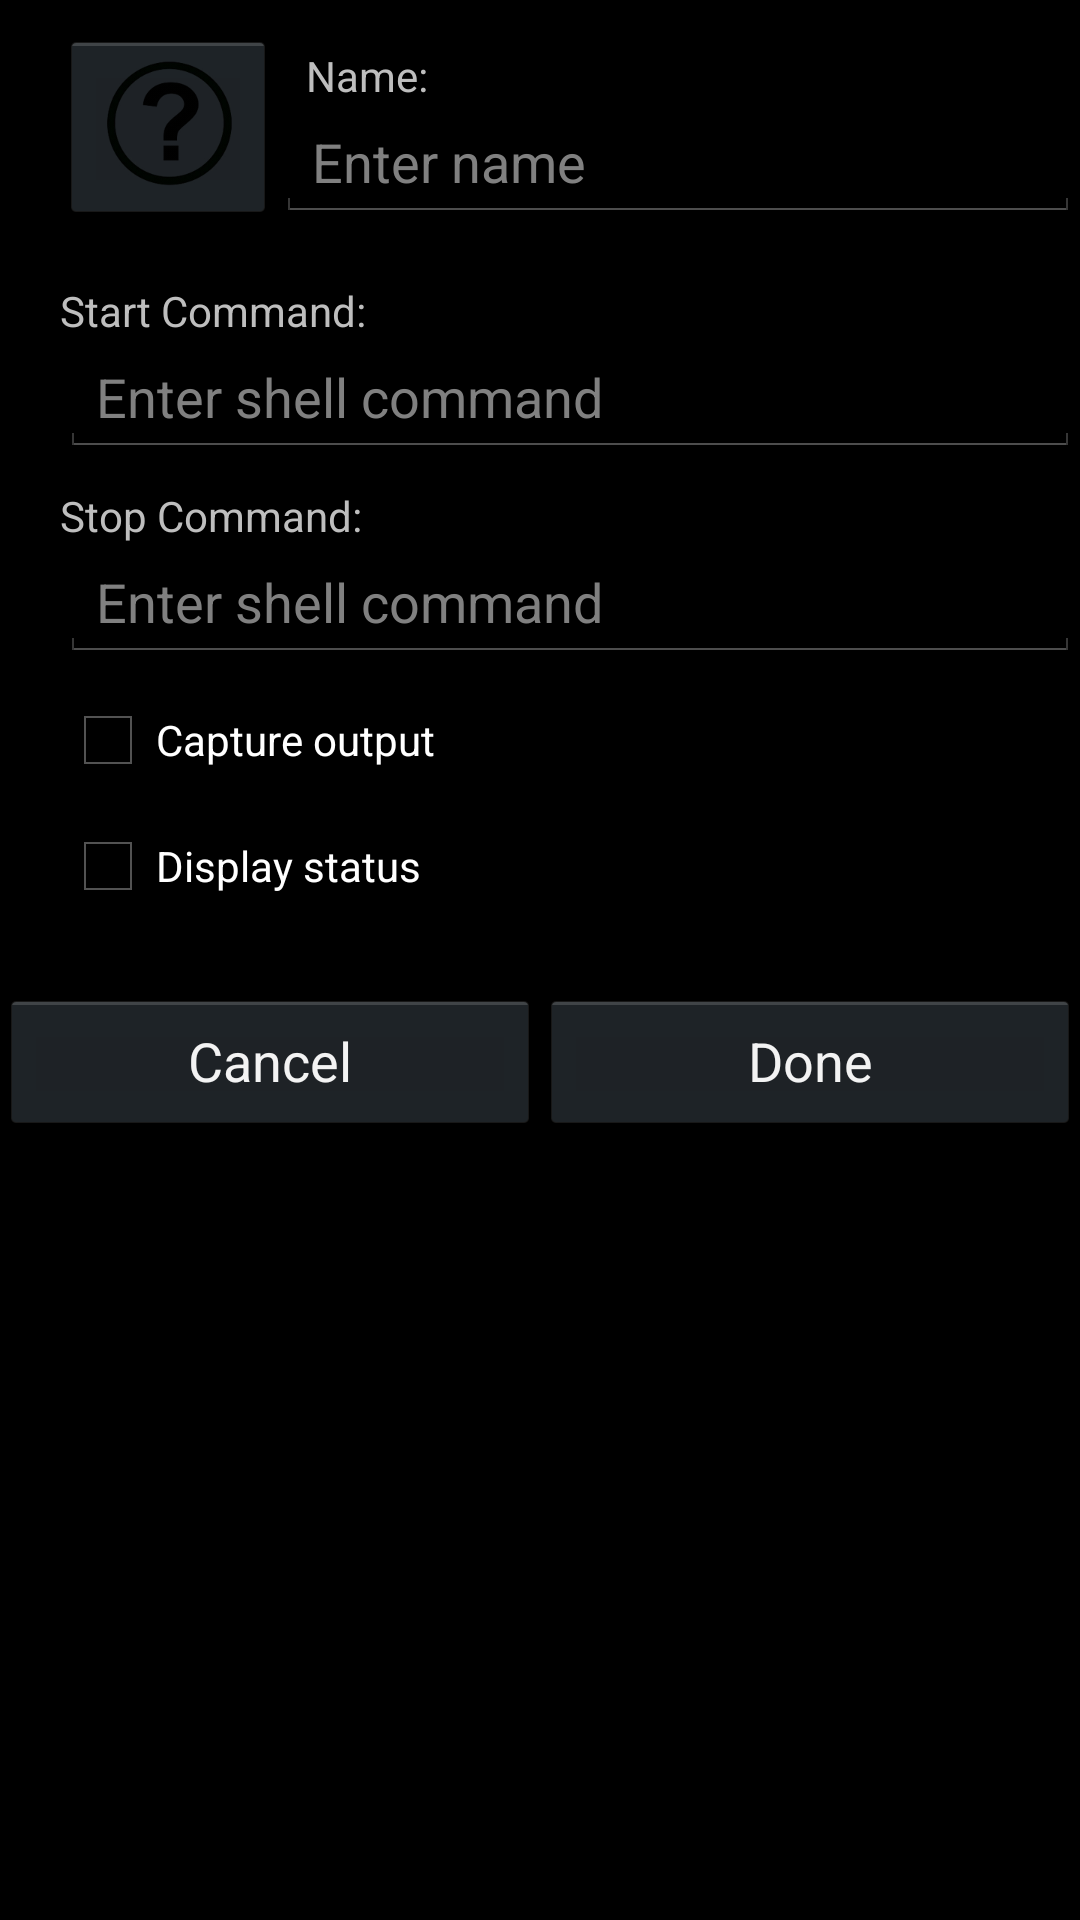

Named icons in this screenshot (1080 × 1920) and their centers, [x,y]:
unknown item: [168,127]
